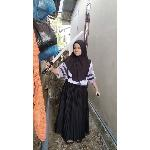Pedang: (42, 30, 86, 76)
